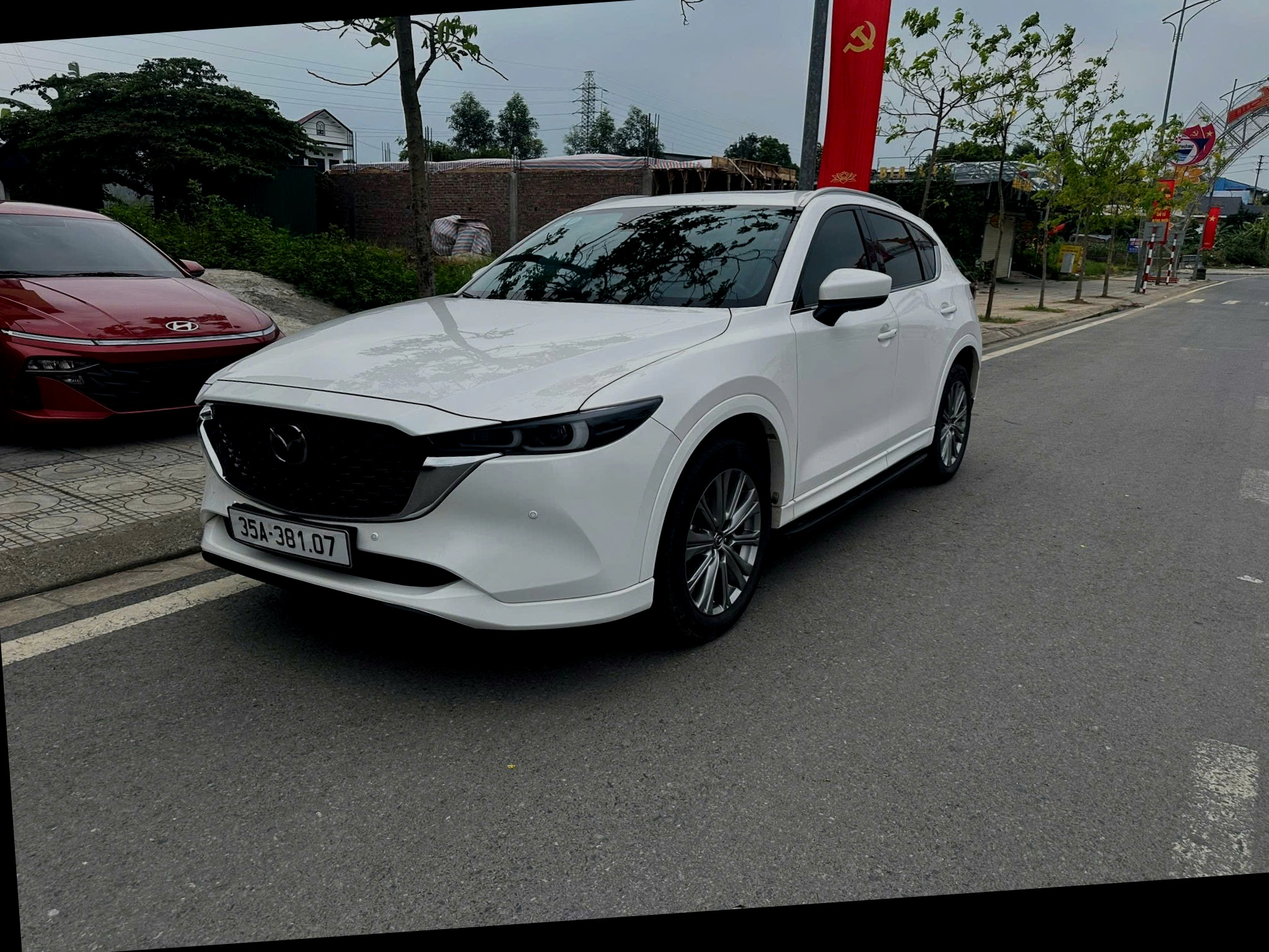Bien-so: (223, 509, 350, 592)
